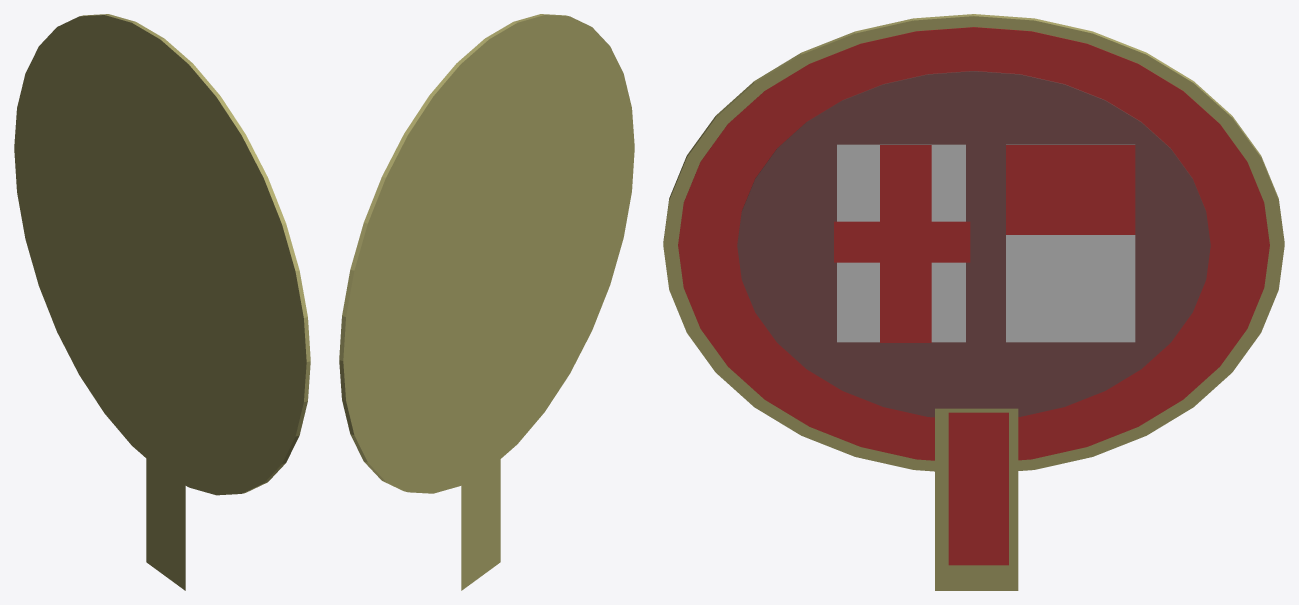
File: gwr-garter-crest.dae
The picture shows the model from 3 angles, left to right: view 1: azimuth 30°, elevation 25°; view 2: azimuth 150°, elevation 25°; view 3: azimuth 270°, elevation 25°; orthographic projection. The views are drawn at different scales.
Parts seen in each view (by area): view 1: Cylinder_025, Plane_051; view 2: Cylinder_025, Plane_051; view 3: Cylinder_024, Cylinder_023, Cylinder_025, Plane_047, Plane_046, Plane_048, Plane_049, Plane_052, Plane_051, Plane_050.
Part boxes in pixels (x1,y1,x2,y2): Cylinder_025: (14, 14, 310, 495); Plane_051: (146, 459, 185, 590); Cylinder_025: (339, 14, 634, 493); Plane_051: (461, 459, 500, 590); Cylinder_024: (737, 71, 1210, 417); Cylinder_023: (678, 27, 1269, 460); Cylinder_025: (663, 14, 1284, 471); Plane_047: (1006, 144, 1135, 342); Plane_046: (837, 144, 965, 342); Plane_048: (1006, 145, 1135, 234); Plane_049: (880, 145, 931, 342); Plane_052: (948, 412, 1008, 565); Plane_051: (935, 408, 1018, 590); Plane_050: (834, 221, 970, 262).
Bounding box in the file's own units: 0.0052 × 0.3663 × 0.3729.
